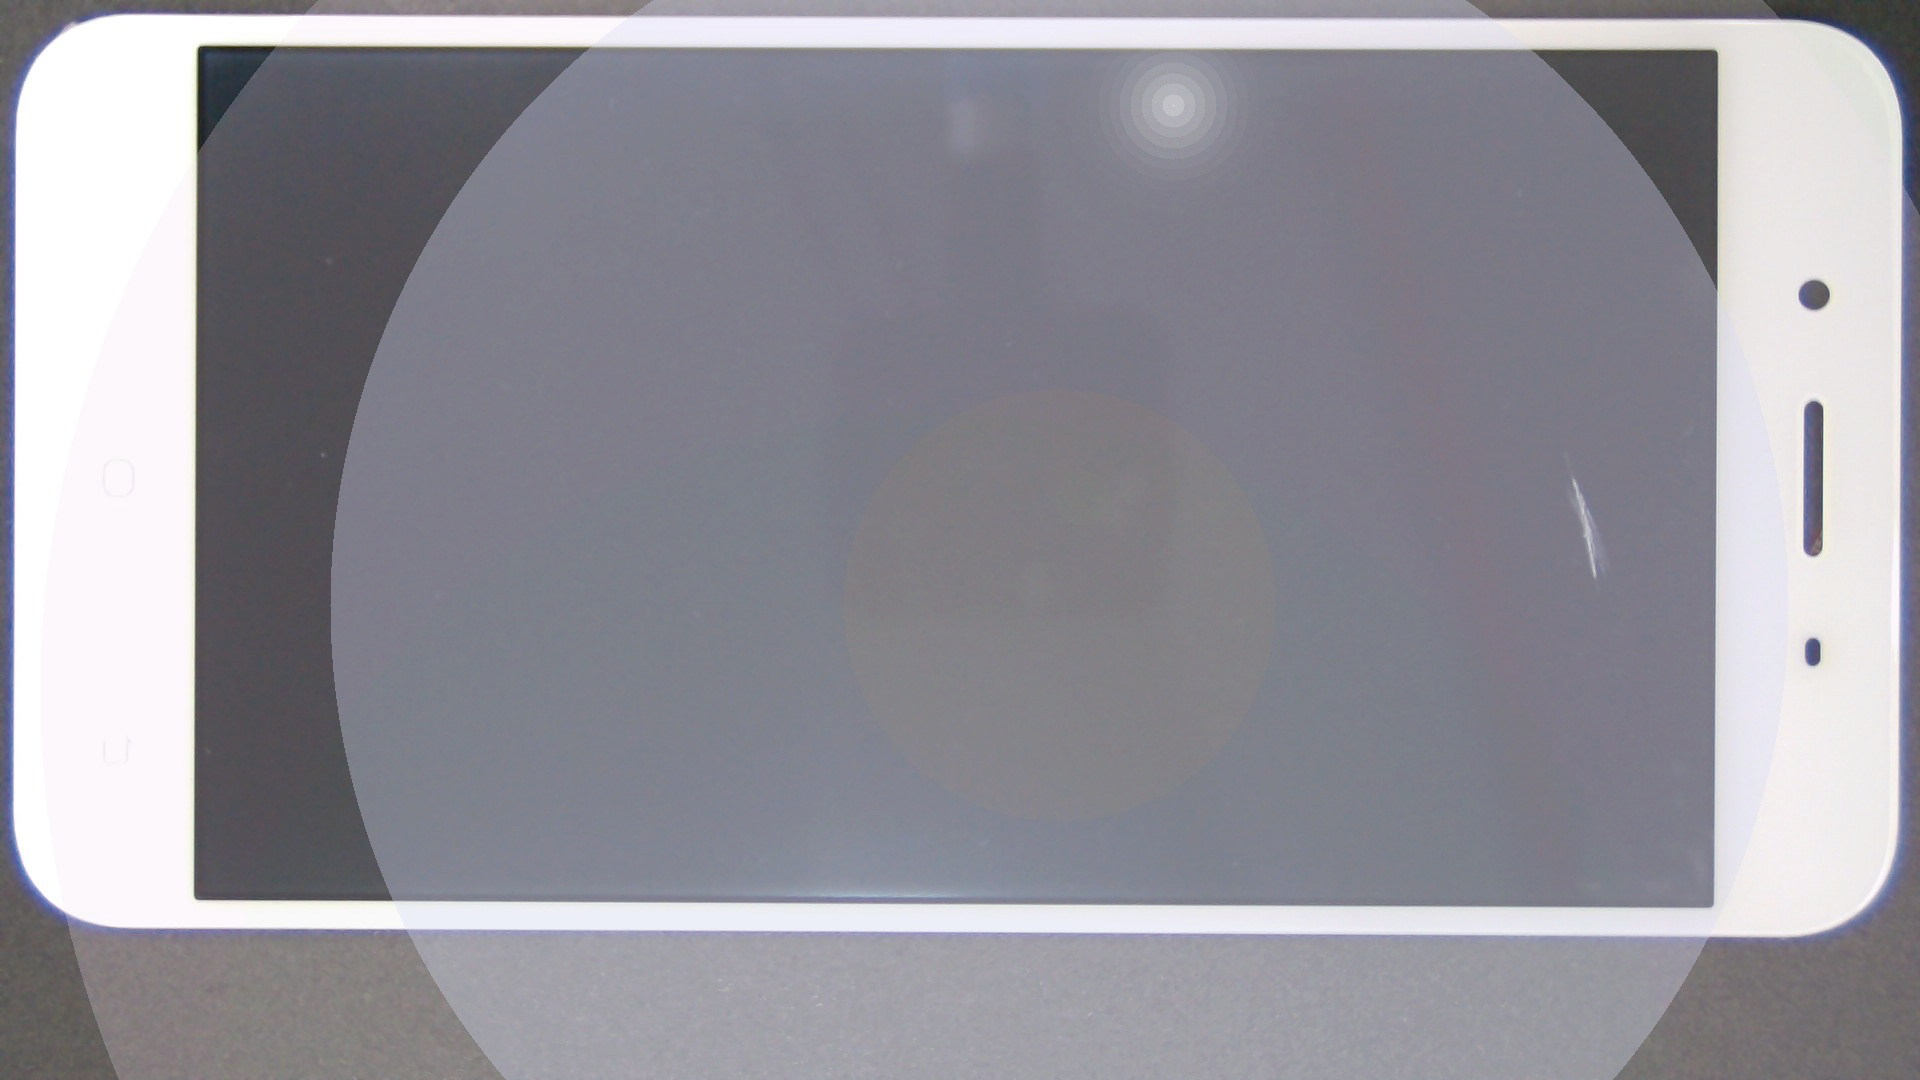oil: (782, 228, 1920, 684)
